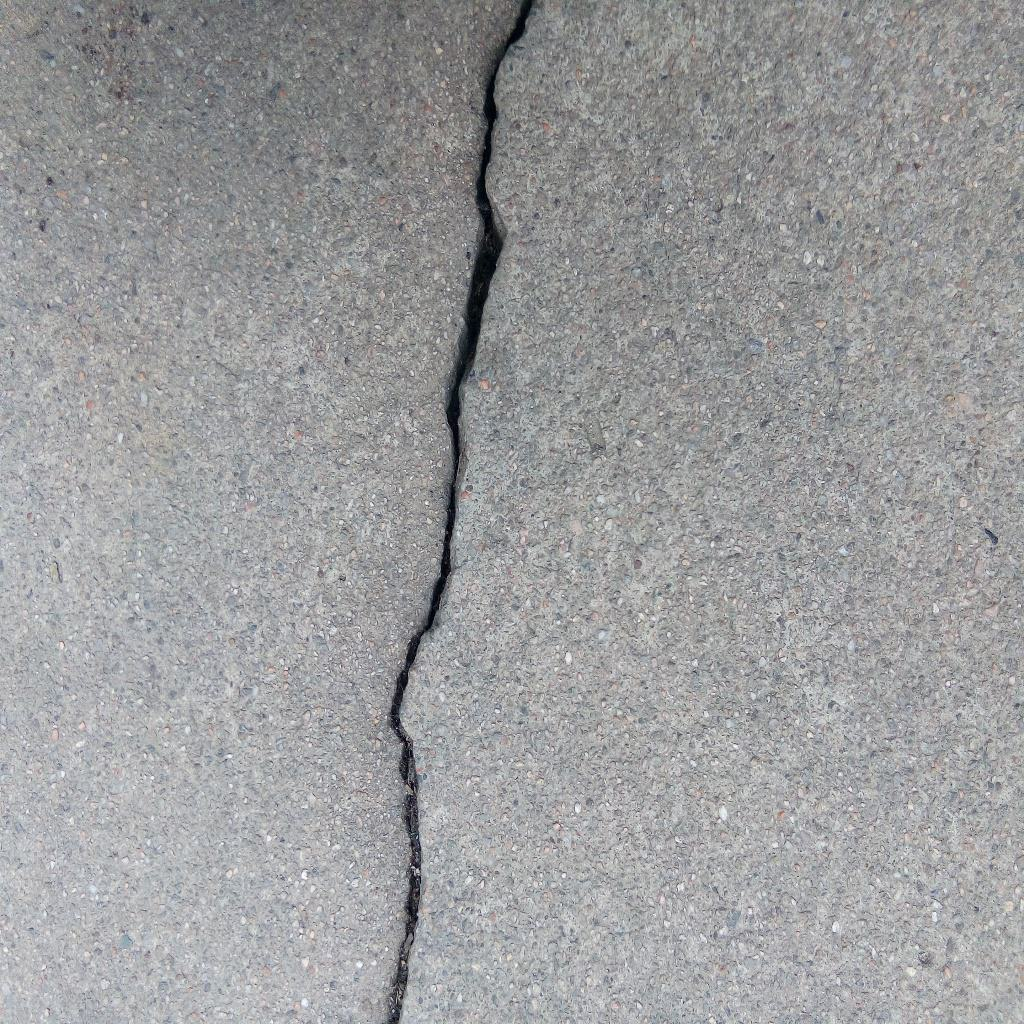Crack: (385, 1, 534, 1024)
